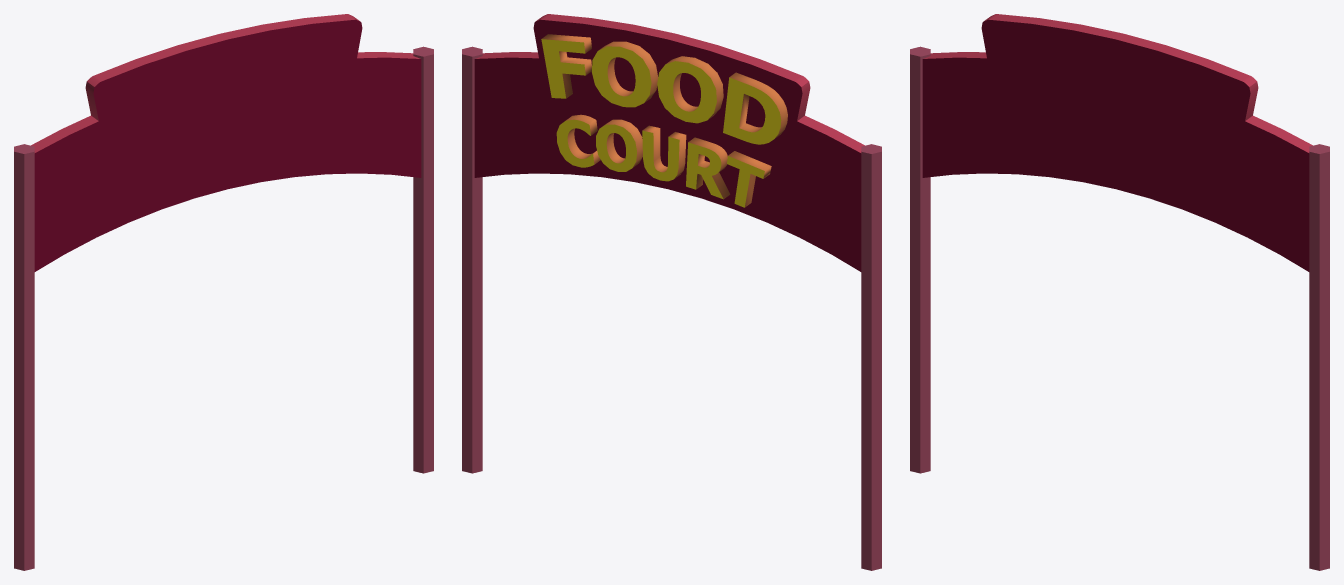
Rendered from FoodCrt_Sign_geo.fbx.
The picture shows the model from 3 angles, left to right: view 1: azimuth 30°, elevation 25°; view 2: azimuth 150°, elevation 25°; view 3: azimuth 330°, elevation 25°; orthographic projection.
Parts seen in each view (by area): view 1: FoodCrt_Sign_geo; view 2: FoodCrt_Sign_geo, FoodCrt_Text_geo; view 3: FoodCrt_Sign_geo.
Part boxes in pixels (bbox=[...]): FoodCrt_Sign_geo: bbox=[14, 14, 433, 570]; FoodCrt_Sign_geo: bbox=[462, 14, 881, 570]; FoodCrt_Text_geo: bbox=[541, 34, 787, 207]; FoodCrt_Sign_geo: bbox=[910, 14, 1329, 570].
Size of the model in its own units: 3.75 by 0.2453 by 4.1.
